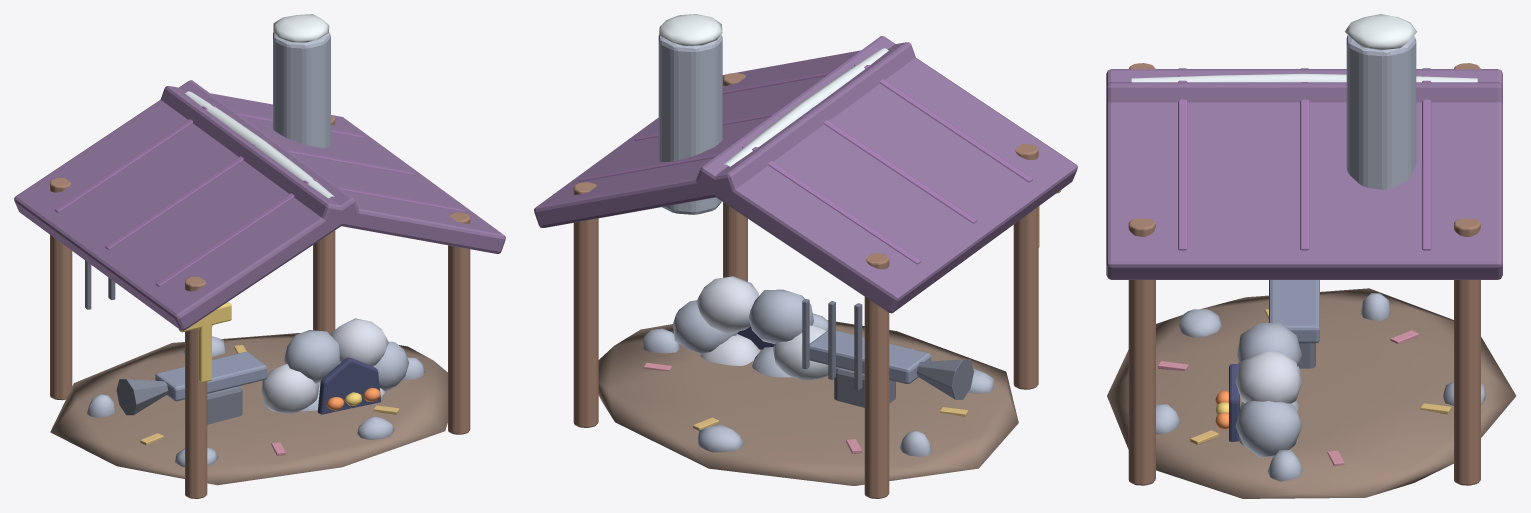
The model's file is northern_forge.glb.
3 renders of one model, left to right at view 1: azimuth 30°, elevation 25°; view 2: azimuth 150°, elevation 25°; view 3: azimuth 270°, elevation 25°, orthographic. The views are drawn at different scales.
Visible parts, largest first — view 1: northern_forge.001; view 2: northern_forge.001; view 3: northern_forge.001.
Boxes of the visible parts, box(x1,y1,x2,y2) form: northern_forge.001: box(14, 14, 505, 498); northern_forge.001: box(534, 14, 1077, 498); northern_forge.001: box(1106, 14, 1516, 498).
Size of the model in its own units: 9.81 by 9.68 by 8.07.
